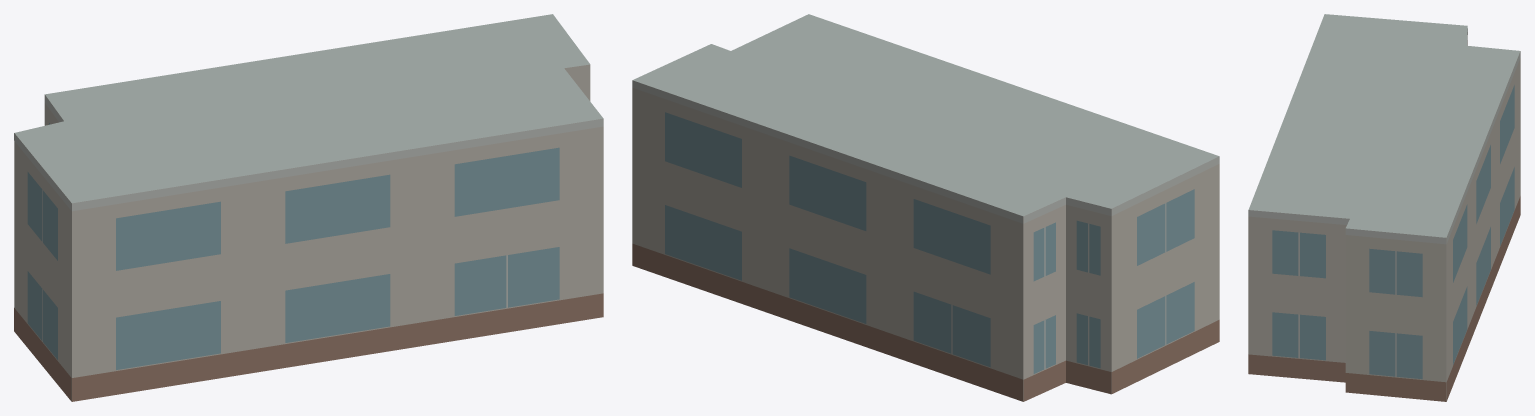
The model's file is survey-upis-32802380.glb.
The picture shows the model from 3 angles, left to right: view 1: azimuth 30°, elevation 25°; view 2: azimuth 150°, elevation 25°; view 3: azimuth 270°, elevation 25°; orthographic projection. The views are drawn at different scales.
Parts seen in each view (by area): view 1: survey-upis-32802380.tmp; view 2: survey-upis-32802380.tmp; view 3: survey-upis-32802380.tmp.
Part boxes in pixels (x1,y1,x2,y2): survey-upis-32802380.tmp: (14,14,603,401); survey-upis-32802380.tmp: (632,14,1219,401); survey-upis-32802380.tmp: (1248,14,1520,401).
Size of the model in its own units: 17.86 by 6.1 by 9.18.
